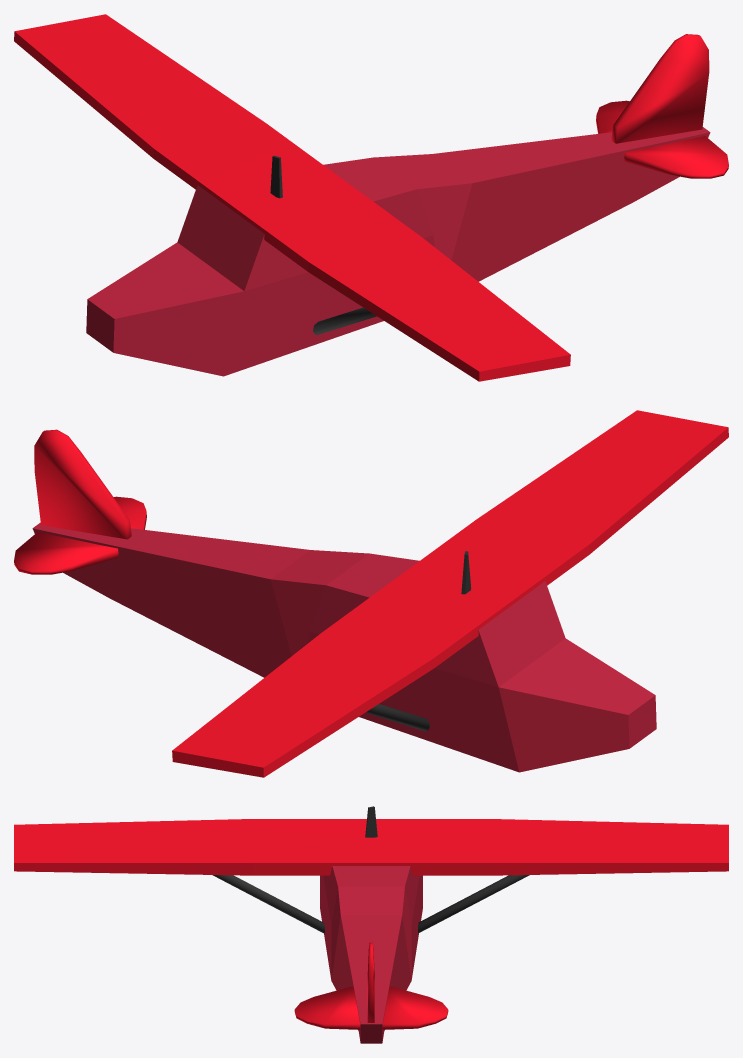
3 views of the same model, one above another, from view 1: azimuth 30°, elevation 25°; view 2: azimuth 150°, elevation 25°; view 3: azimuth 270°, elevation 25° (orthographic). The views are drawn at different scales.
Visible parts, largest first — view 1: Base; view 2: Base; view 3: Base.
Boxes of the visible parts, left/top/right/bottom form: Base: left=14, top=14, right=728, bottom=381; Base: left=14, top=410, right=728, bottom=777; Base: left=14, top=819, right=728, bottom=1043.
Bounding box in the file's own units: 755 × 233 × 1000.
